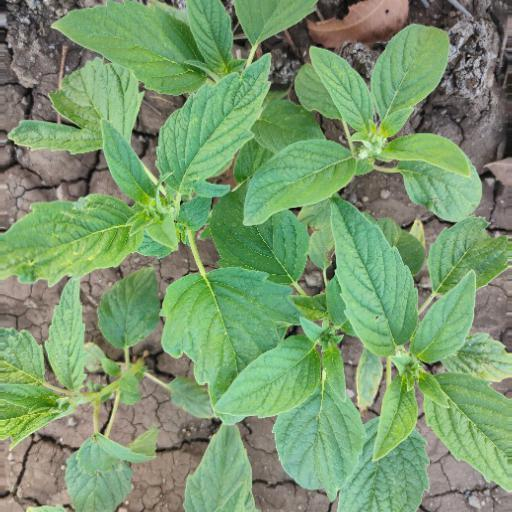crop: (16, 6, 512, 497)
